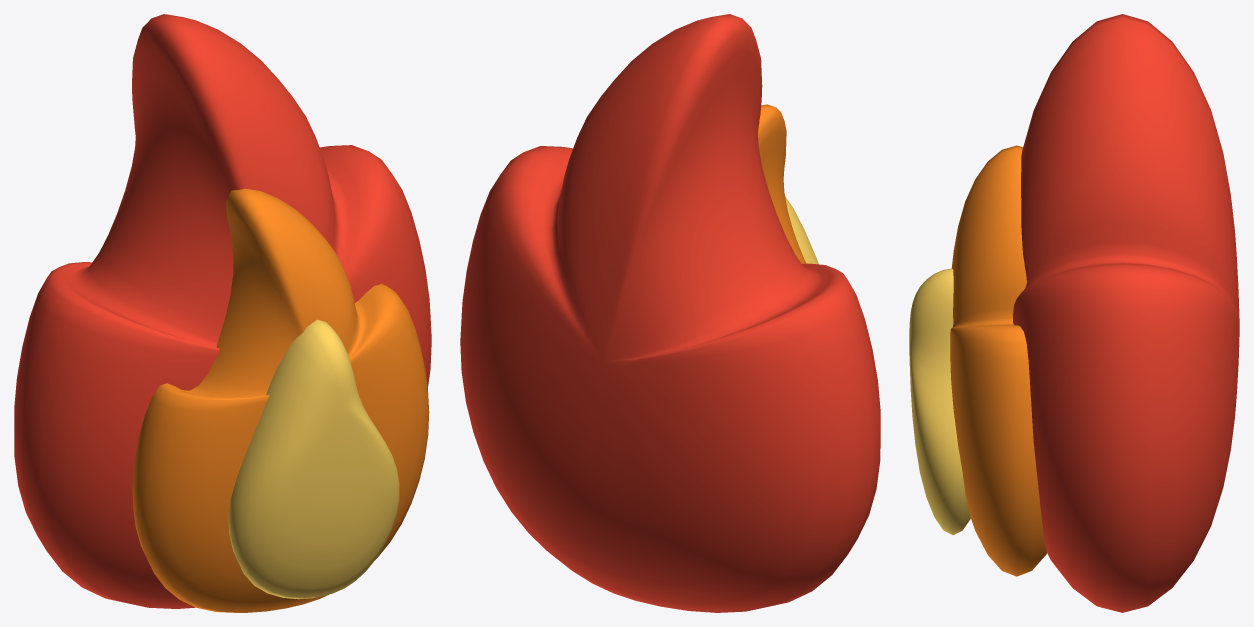
The model's file is flame.glb.
3 renders of one model, left to right at view 1: azimuth 30°, elevation 25°; view 2: azimuth 150°, elevation 25°; view 3: azimuth 270°, elevation 25°, orthographic. The views are drawn at different scales.
Parts seen in each view (by area): view 1: Coral outer flame, Orange middle flame, Warm yellow core; view 2: Coral outer flame, Orange middle flame, Warm yellow core; view 3: Coral outer flame, Orange middle flame, Warm yellow core.
Part boxes in pixels (left/top/right/bottom): Coral outer flame: left=14, top=14, right=431, bottom=608; Orange middle flame: left=132, top=188, right=429, bottom=612; Warm yellow core: left=228, top=319, right=399, bottom=599; Coral outer flame: left=460, top=14, right=880, bottom=612; Orange middle flame: left=758, top=104, right=807, bottom=263; Warm yellow core: left=785, top=197, right=818, bottom=264; Coral outer flame: left=1013, top=14, right=1239, bottom=612; Orange middle flame: left=950, top=145, right=1046, bottom=576; Warm yellow core: left=909, top=268, right=970, bottom=535.
Size of the model in its own units: 3.24 by 4.61 by 2.52.
